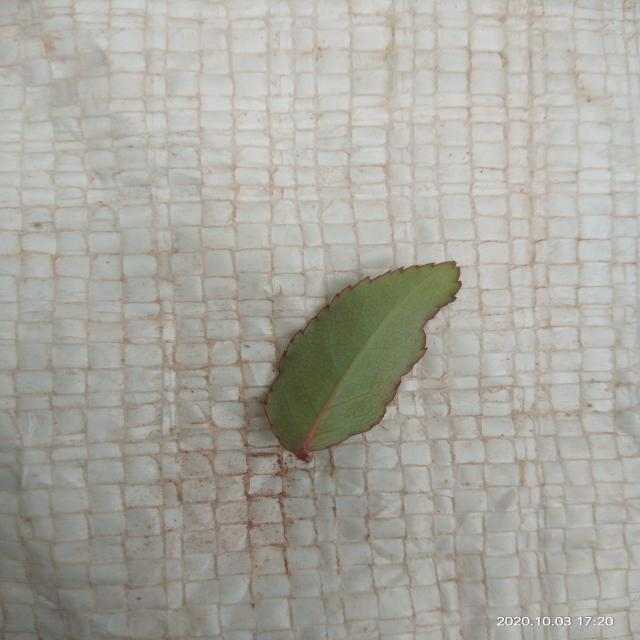rose: (265, 261, 460, 461)
